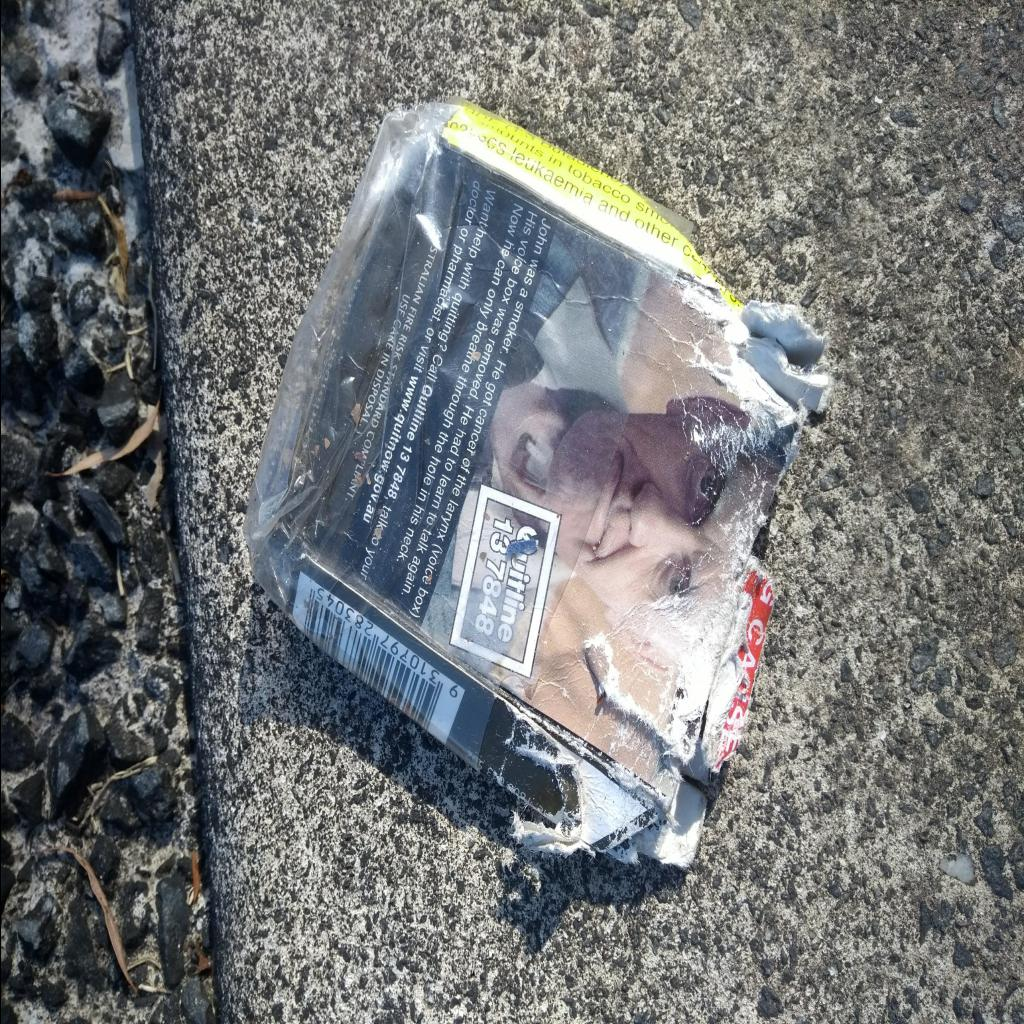Other carton: (262, 102, 830, 866)
Plastic film: (241, 95, 692, 770)
